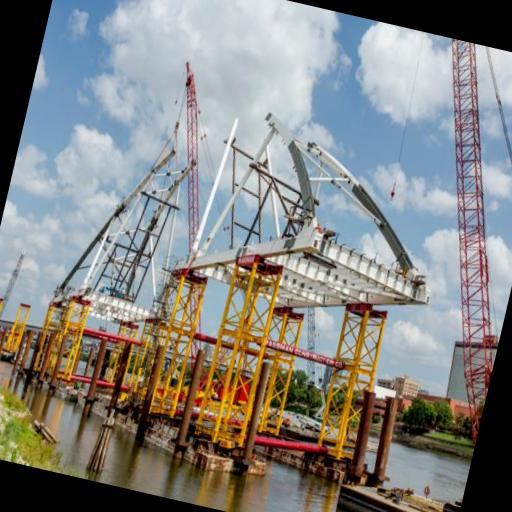corrosion: (239, 361, 273, 469), (174, 348, 206, 460), (348, 390, 378, 483), (373, 397, 399, 479), (139, 346, 166, 418), (108, 340, 133, 414), (83, 338, 106, 416), (37, 331, 55, 387), (19, 331, 34, 374), (0, 326, 7, 356)
